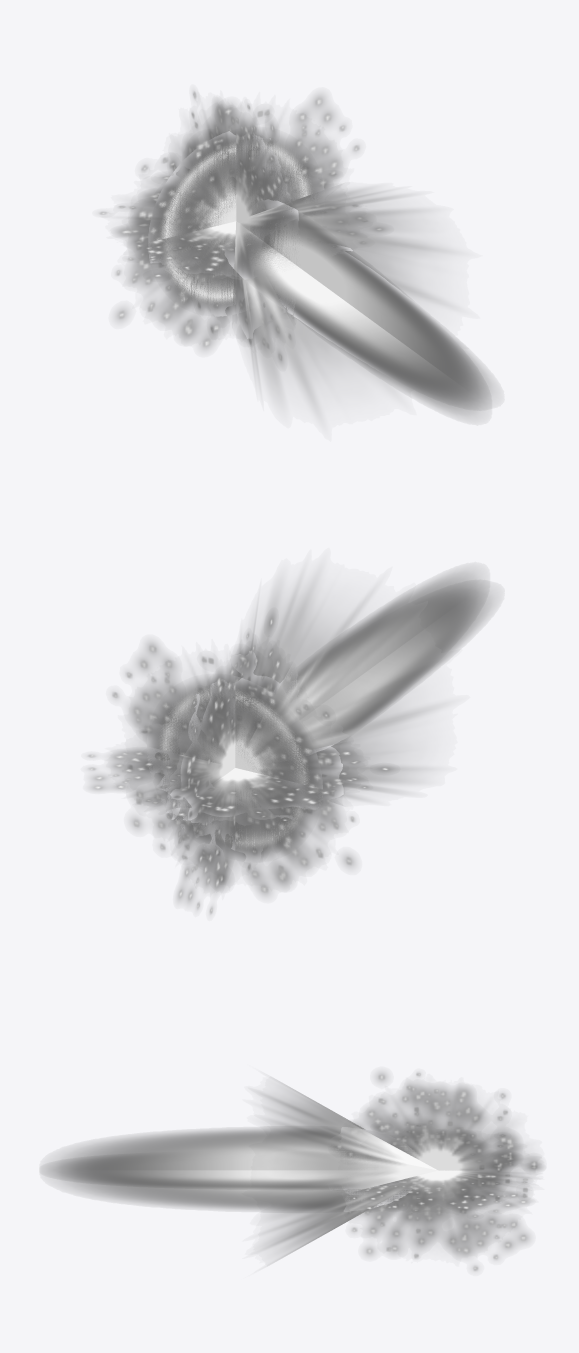
The model's file is si_eam_0200.glb.
3 renders of one model, top to bottom at view 1: azimuth 30°, elevation 25°; view 2: azimuth 150°, elevation 25°; view 3: azimuth 270°, elevation 25°, orthographic. The views are drawn at different scales.
Parts seen in each view (by area): view 1: layer_02_si_est_0103, layer_00_si_est_0003, layer_01_si_est_0004, layer_03_si_est_0200, layer_04_si_est_0402; view 2: layer_00_si_est_0003, layer_03_si_est_0200, layer_01_si_est_0004, layer_02_si_est_0103, layer_04_si_est_0402; view 3: layer_02_si_est_0103, layer_00_si_est_0003, layer_01_si_est_0004, layer_03_si_est_0200.
Boxes of the visible parts, x1=… form: layer_02_si_est_0103: x1=231, y1=205, x2=494, y2=417; layer_00_si_est_0003: x1=127, y1=113, x2=330, y2=320; layer_01_si_est_0004: x1=233, y1=187, x2=443, y2=406; layer_03_si_est_0200: x1=99, y1=91, x2=383, y2=362; layer_04_si_est_0402: x1=154, y1=133, x2=318, y2=310; layer_00_si_est_0003: x1=131, y1=658, x2=347, y2=877; layer_03_si_est_0200: x1=88, y1=615, x2=391, y2=914; layer_01_si_est_0004: x1=238, y1=582, x2=431, y2=799; layer_02_si_est_0103: x1=295, y1=570, x2=495, y2=739; layer_04_si_est_0402: x1=152, y1=680, x2=313, y2=856; layer_02_si_est_0103: x1=41, y1=1128, x2=393, y2=1210; layer_00_si_est_0003: x1=369, y1=1095, x2=529, y2=1243; layer_01_si_est_0004: x1=261, y1=1082, x2=437, y2=1260; layer_03_si_est_0200: x1=336, y1=1072, x2=542, y2=1270.
Size of the model in its own units: 6 by 6 by 13.05.
Materials: 5 (5 with a texture image).
